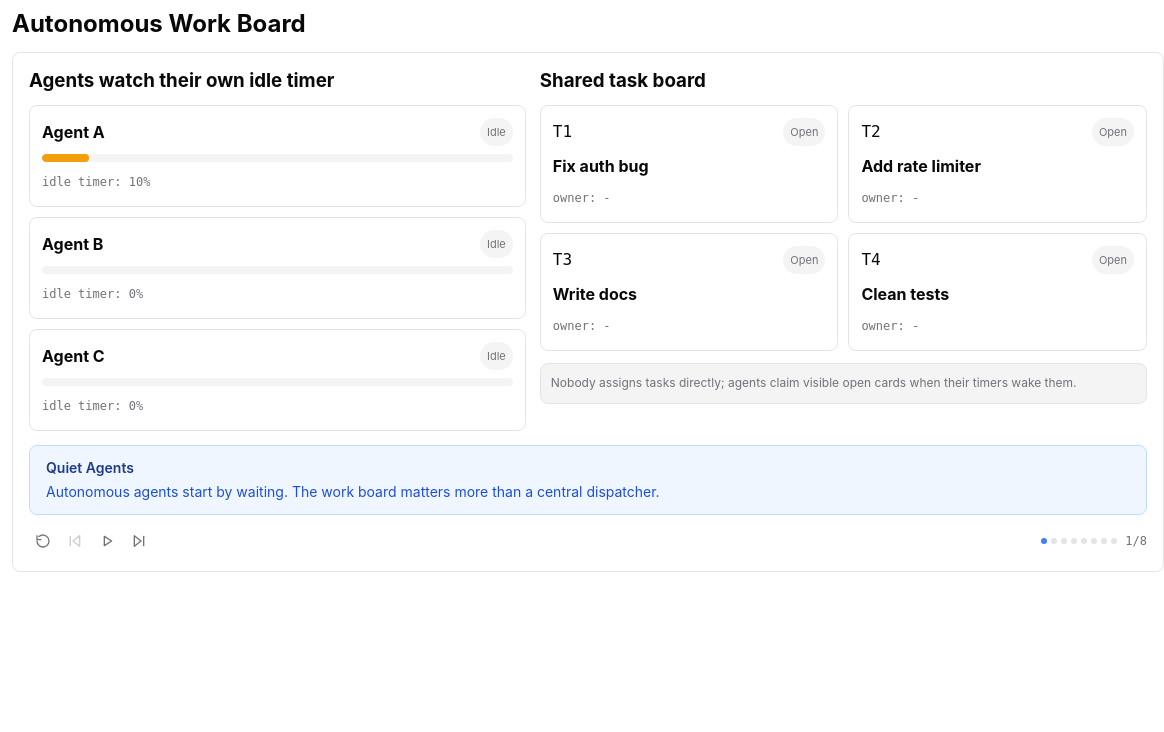
S17AutonomousAgents › renders autonomous agents claiming visible board tasks
Click the button titled "Next step" at (139, 541), box [125,527,153,555]
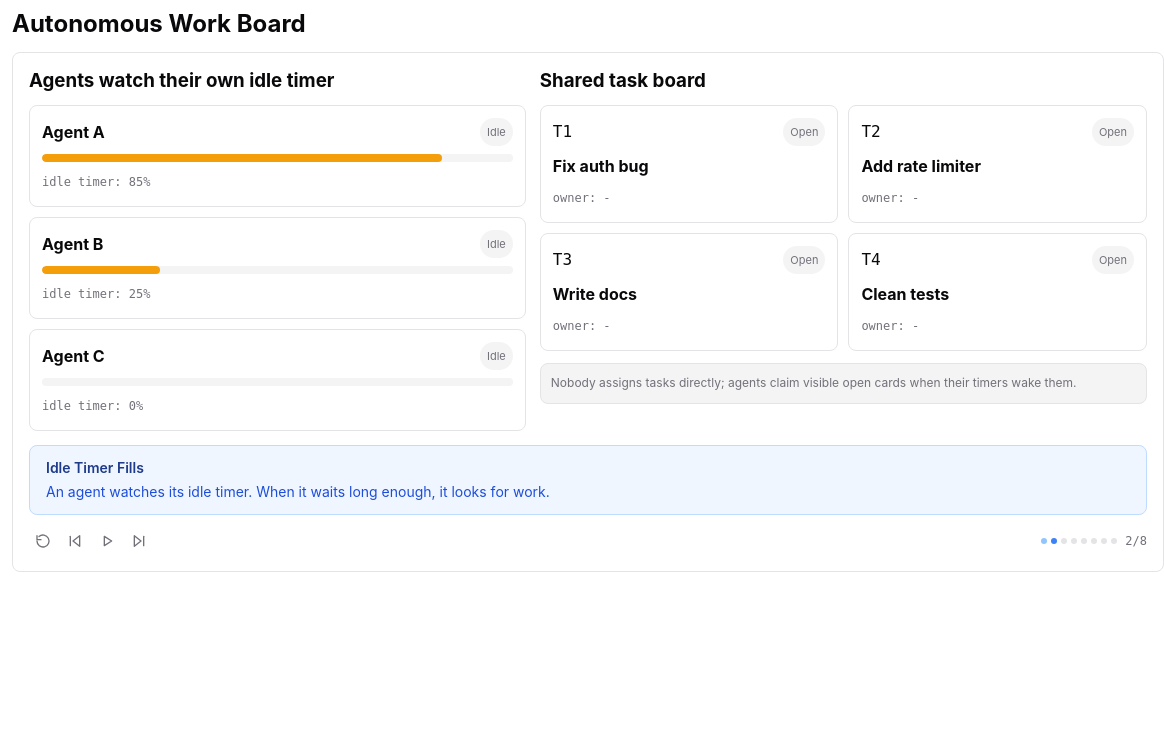
Click the button titled "Next step" at (139, 541), box [125,527,153,555]
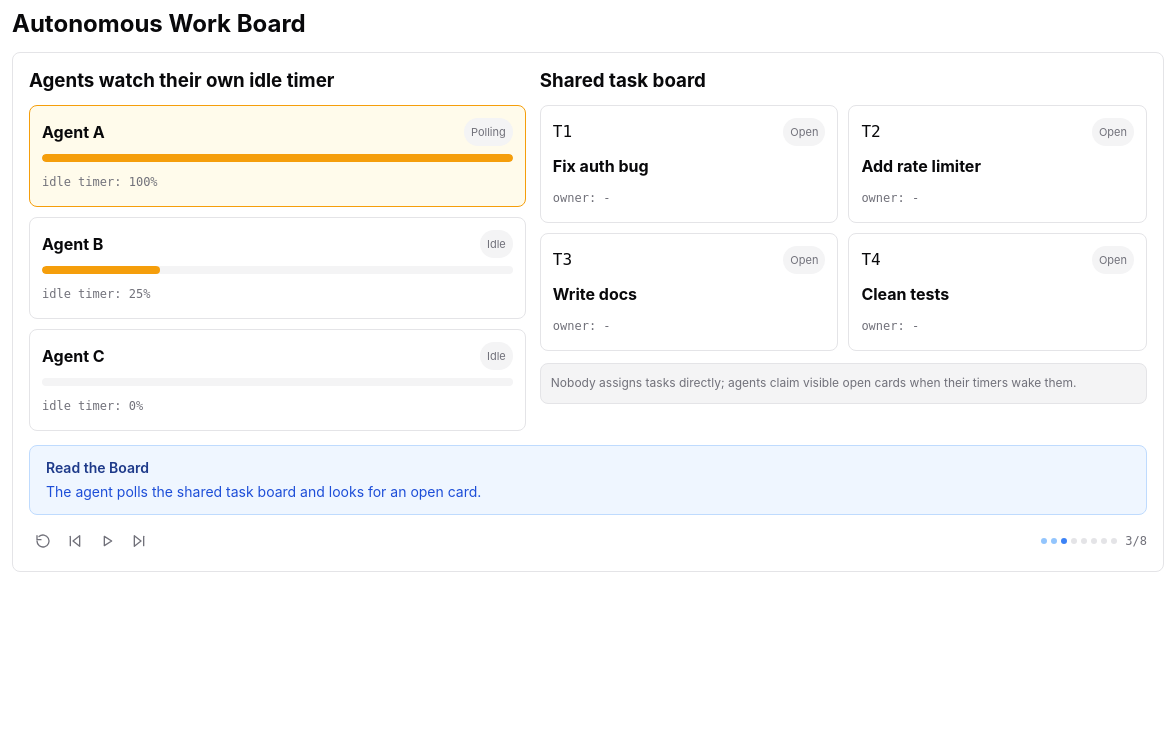
Click the button titled "Next step" at (139, 541), box [125,527,153,555]
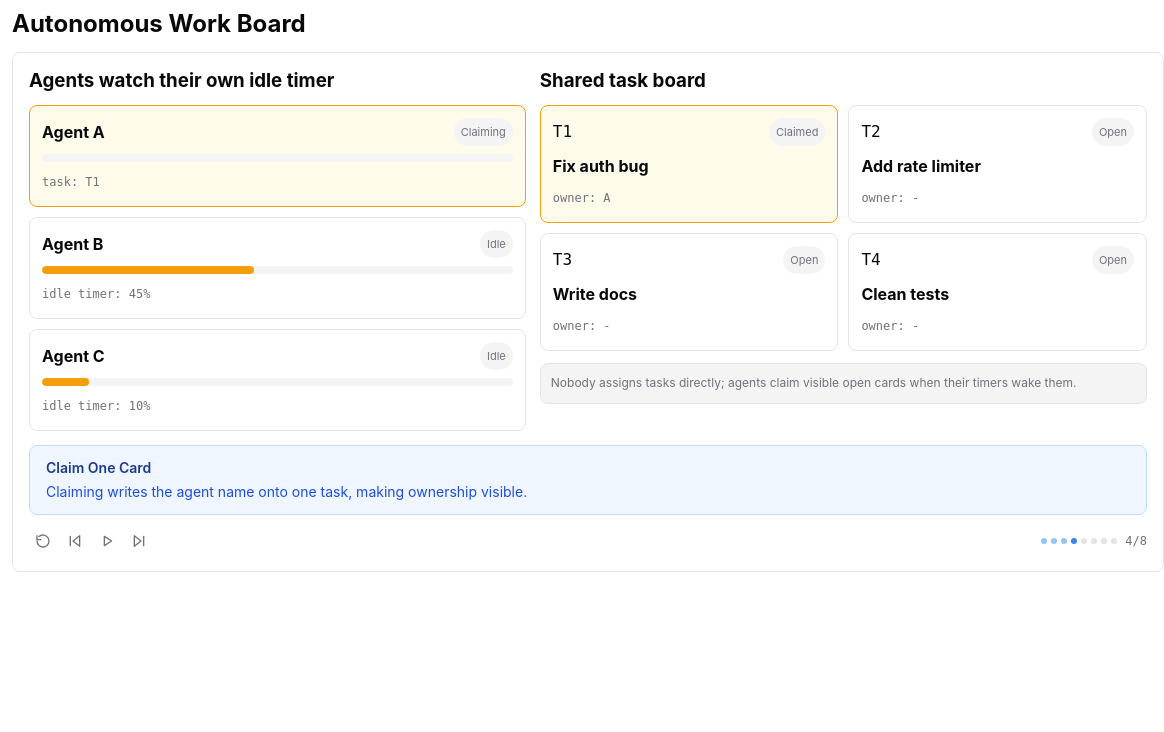
Check: the text "Claim One Card" is shown, box [46,459,151,476]
Check: the element showing "Agent A claiming task: T1" is shown, box [29,105,526,207]
Check: the element showing "T1 claimed Fix auth bug owner: A" is shown, box [540,105,838,223]
